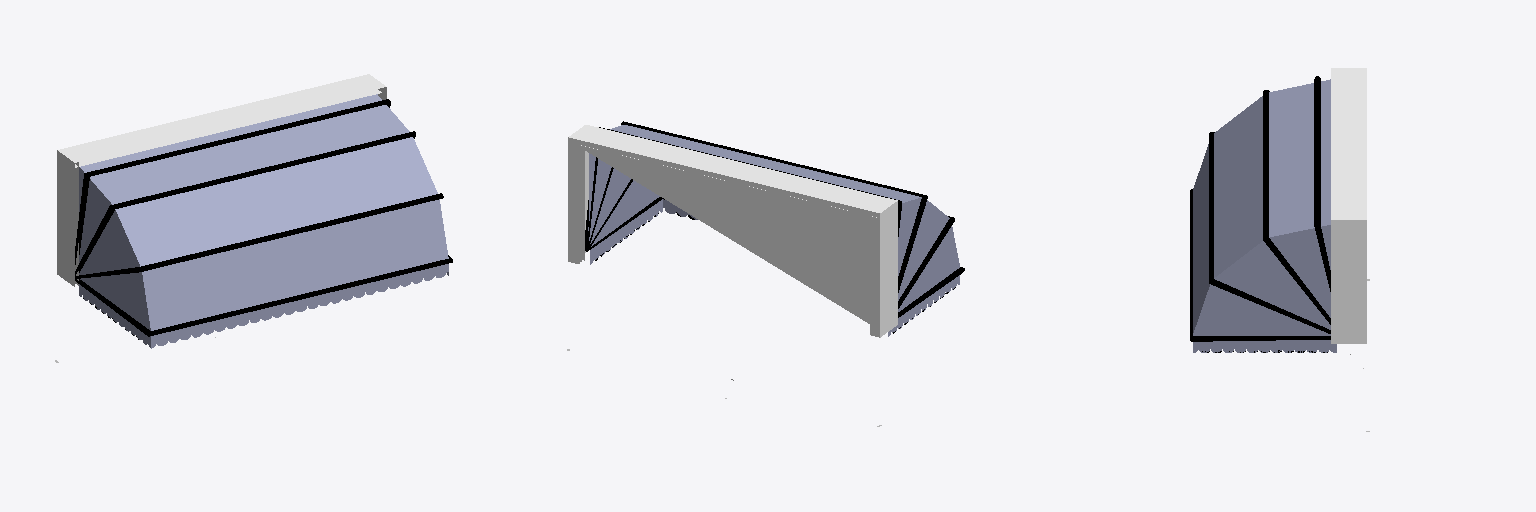
3 views of the same model, side by side, from view 1: azimuth 30°, elevation 25°; view 2: azimuth 150°, elevation 25°; view 3: azimuth 270°, elevation 25° (orthographic).
Parts seen in each view (by area): view 1: by-h3tu0217, Object_154, by-h3tu0215, by-h3tu0216, by-h3tu0214, by-h3tu0218; view 2: Object_154, by-h3tu0217, by-h3tu0216, by-h3tu0214, by-h3tu0215, by-h3tu0218; view 3: by-h3tu0217, Object_154, by-h3tu0216, by-h3tu0214, by-h3tu0218, by-h3tu0215.
Boxes of the visible parts, x1,y1,x2,y2 form: by-h3tu0217: [79, 94, 448, 348]; Object_154: [57, 74, 386, 286]; by-h3tu0215: [75, 255, 452, 336]; by-h3tu0216: [75, 131, 415, 275]; by-h3tu0214: [75, 193, 443, 278]; by-h3tu0218: [75, 99, 390, 264]; Object_154: [568, 125, 897, 337]; by-h3tu0217: [588, 125, 959, 336]; by-h3tu0216: [588, 121, 927, 292]; by-h3tu0214: [589, 179, 954, 308]; by-h3tu0215: [586, 197, 964, 317]; by-h3tu0218: [585, 127, 901, 250]; by-h3tu0217: [1193, 79, 1336, 352]; Object_154: [1331, 68, 1366, 343]; by-h3tu0216: [1263, 90, 1330, 324]; by-h3tu0214: [1209, 132, 1330, 333]; by-h3tu0218: [1314, 76, 1330, 291]; by-h3tu0215: [1190, 189, 1330, 341].
Bounding box in the file's own units: 3.49 × 2.38 × 1.74.